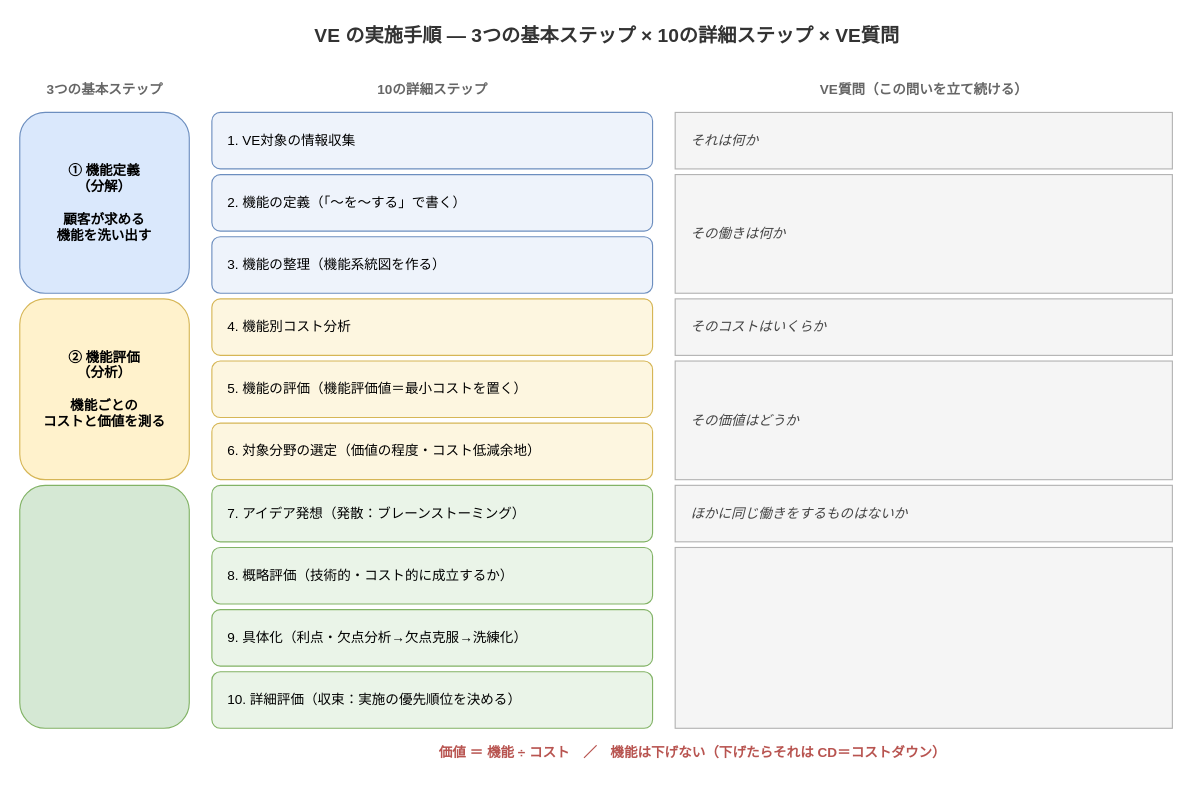
The diagram is 1192 pixels wide and 785 high, and some of its shapes have lost their labels. The box of each missing label's shape, as (x1, y1, x2, y2) in pixels:
③ 代替案作成 （創造） 同じ働きをする 別の手段を作り、 磨き、選ぶ: (19, 484, 189, 728)
そのコストはいくらか ／ それは必要な機能を確実に果たすか: (674, 546, 1172, 728)
